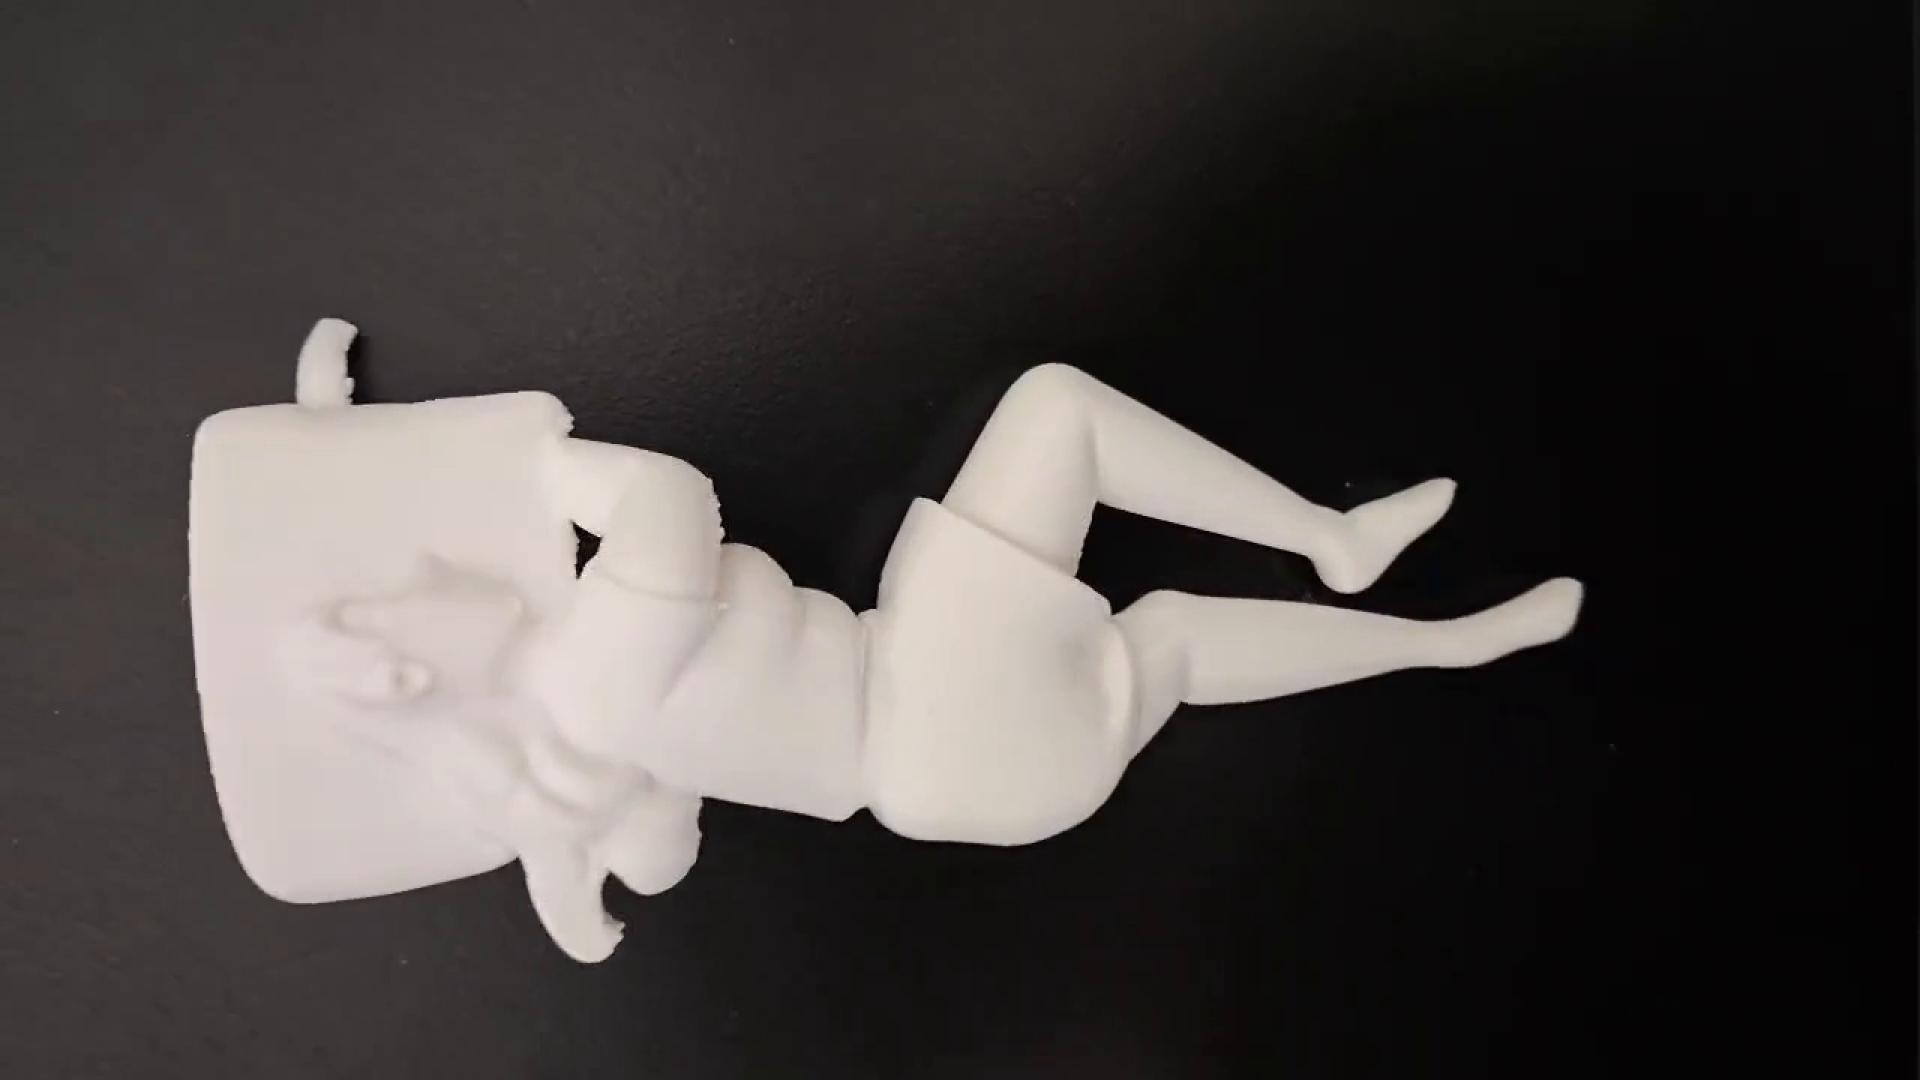Good-style: (88, 302, 1611, 1035)
